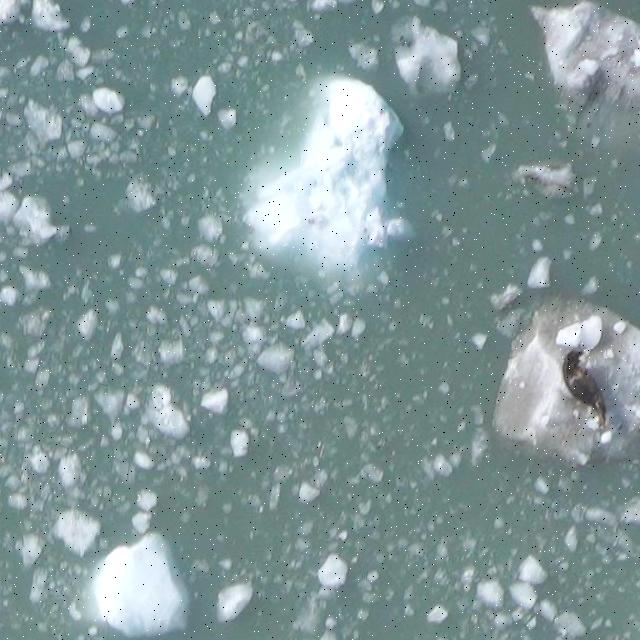seal: (554, 345, 618, 435)
